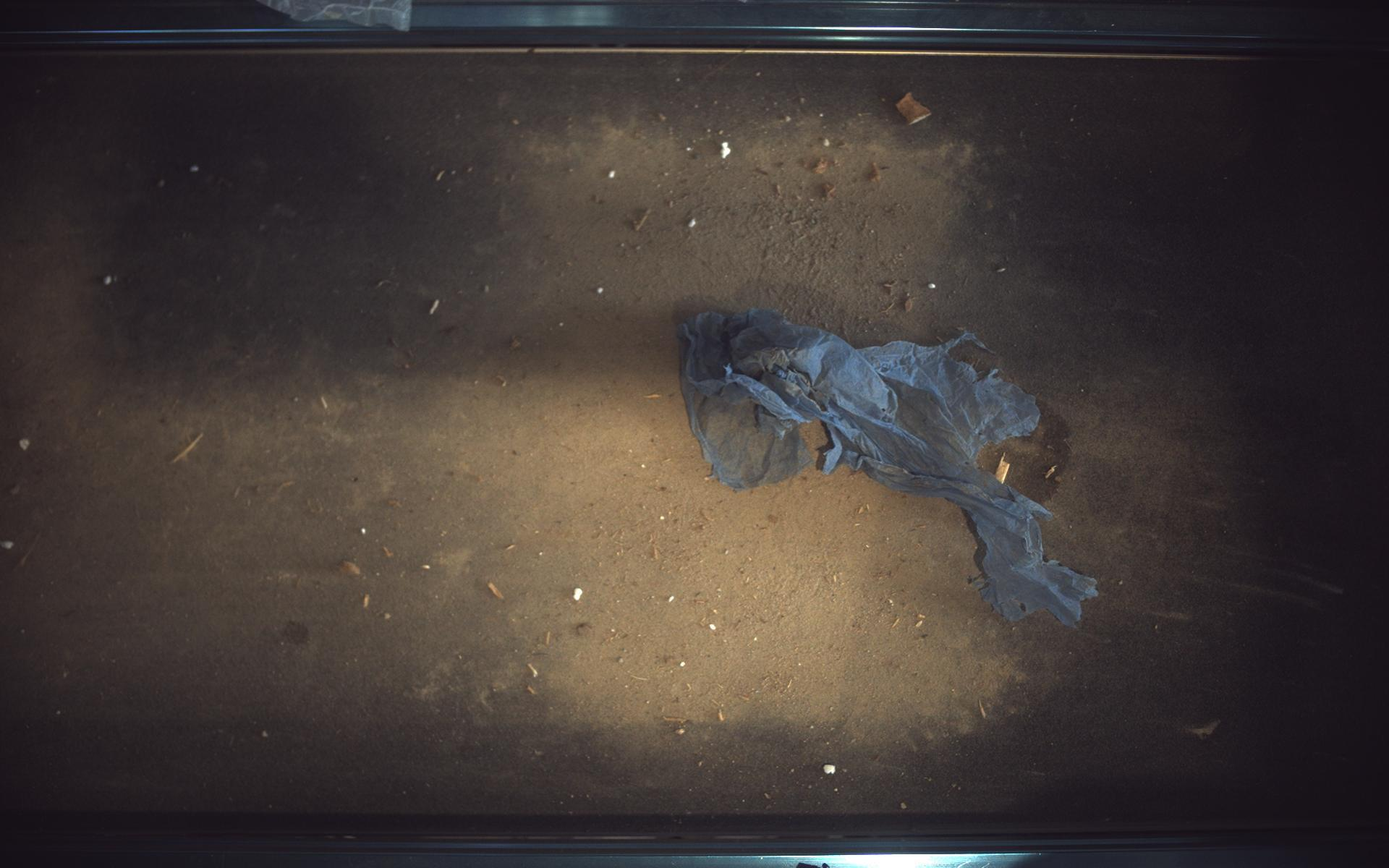general_w: (681, 308, 1099, 627)
